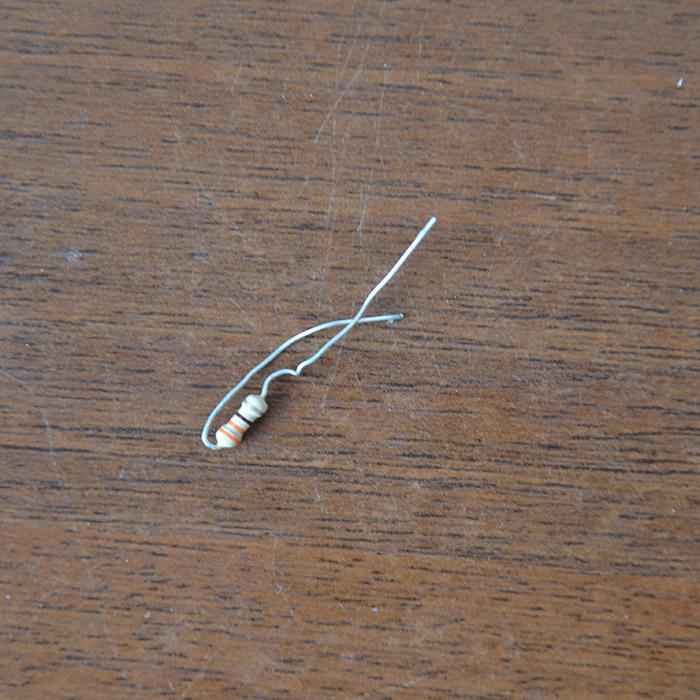resistor: (214, 391, 268, 449)
